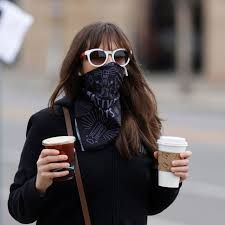with-mask: (71, 24, 137, 110)
